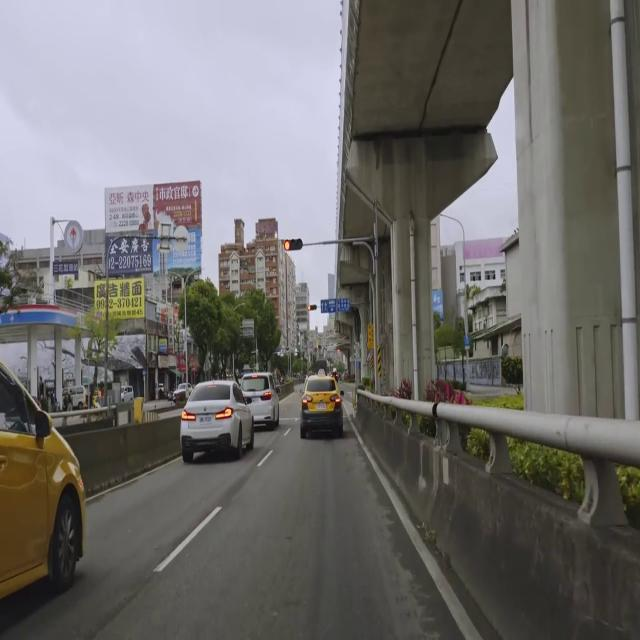red light: (284, 238, 303, 251), (307, 304, 317, 312)
